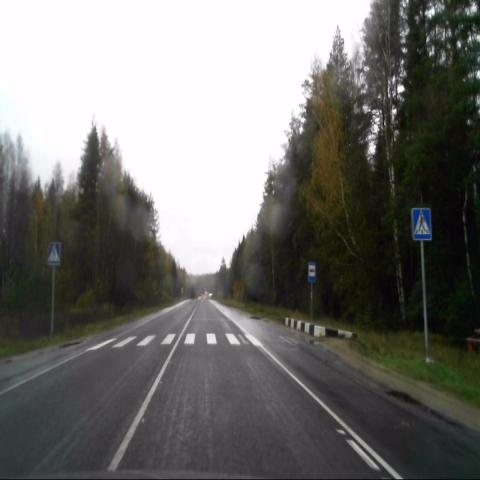5_19_1: (47, 240, 61, 268)
